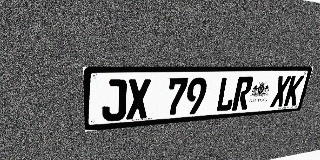7: (164, 78, 188, 116)
9: (184, 77, 208, 115)
J: (102, 79, 127, 122)
K: (283, 75, 304, 106)
L: (215, 77, 238, 112)
R: (231, 76, 254, 111)
X: (126, 79, 151, 120), (270, 76, 291, 107)
